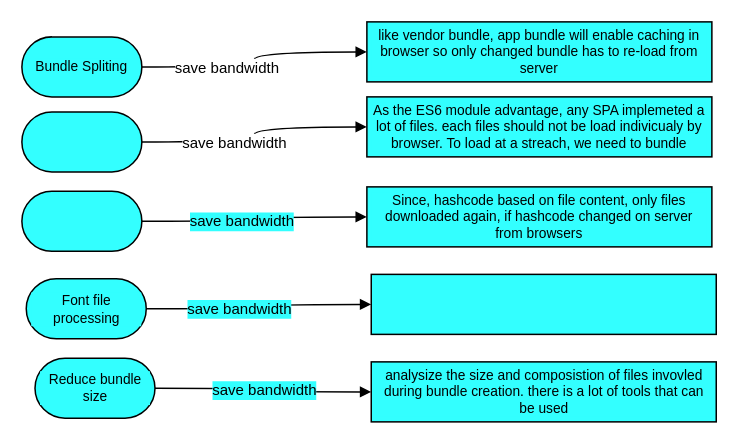
Some shapes in this 739 by 445 pixel diagram are drawn without their labels. The centre of each missing label's shape, as x and y in pixels:
Bundling: point (81, 141)
Hashing in filename: point (81, 220)
like font format procesing, merging fonts, or converting fonts.: point (543, 303)
